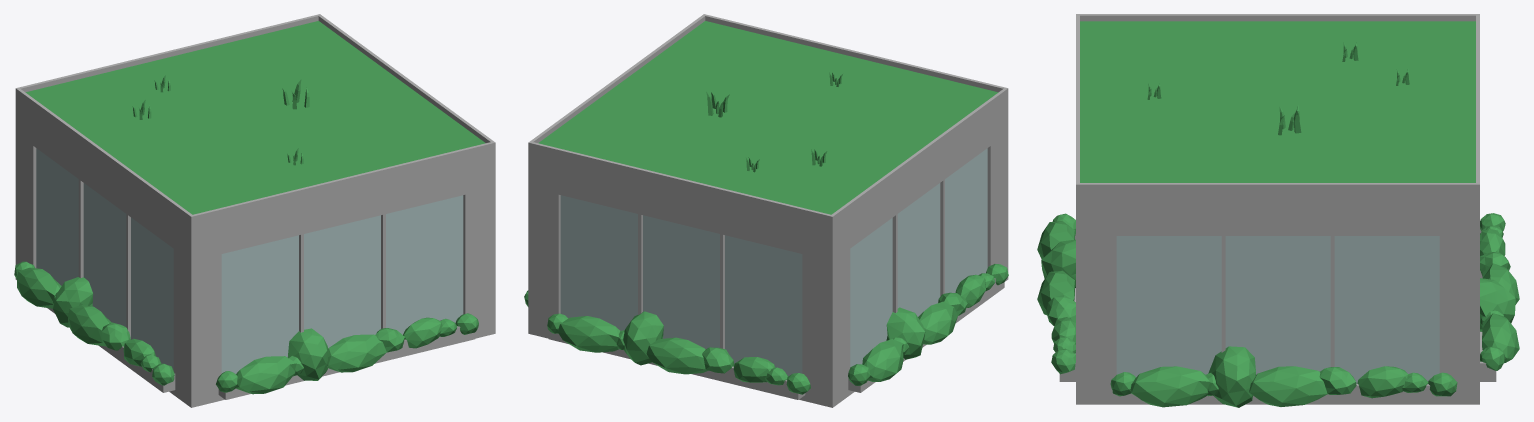
File: TopElement3.fbx
3 renders of one model, left to right at view 1: azimuth 30°, elevation 25°; view 2: azimuth 150°, elevation 25°; view 3: azimuth 270°, elevation 25°, orthographic. The views are drawn at different scales.
Visible parts, largest first — view 1: Icosphere.119; view 2: Icosphere.119; view 3: Icosphere.119.
Part boxes in pixels (x1,y1,x2,y2): Icosphere.119: [14, 14, 495, 407]; Icosphere.119: [524, 14, 1008, 407]; Icosphere.119: [1037, 14, 1519, 407].
Bounding box in the file's own units: 119 × 65.43 × 119.
